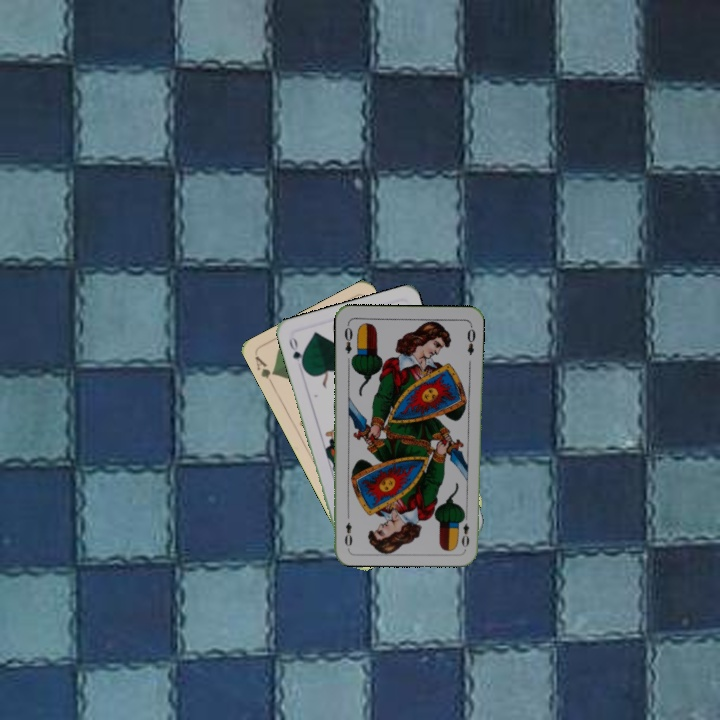EO: (457, 510, 472, 549), (340, 323, 355, 356)
GA: (250, 352, 279, 389)
GO: (285, 333, 307, 372)
